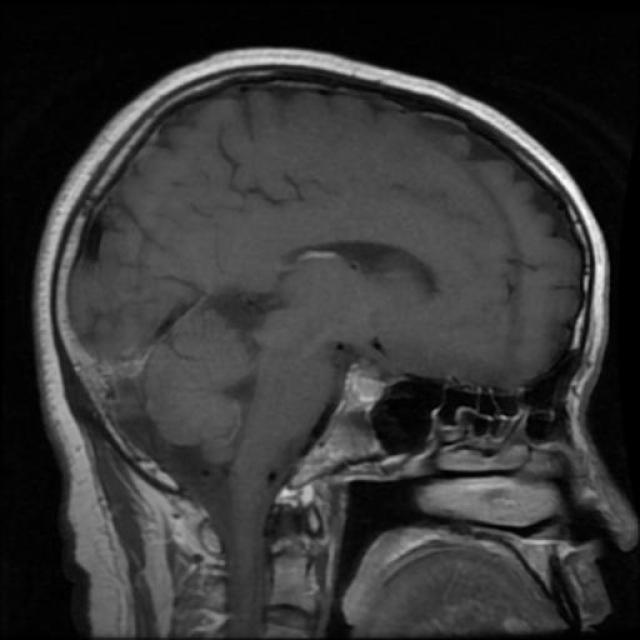pituitary: (302, 320, 379, 441)
